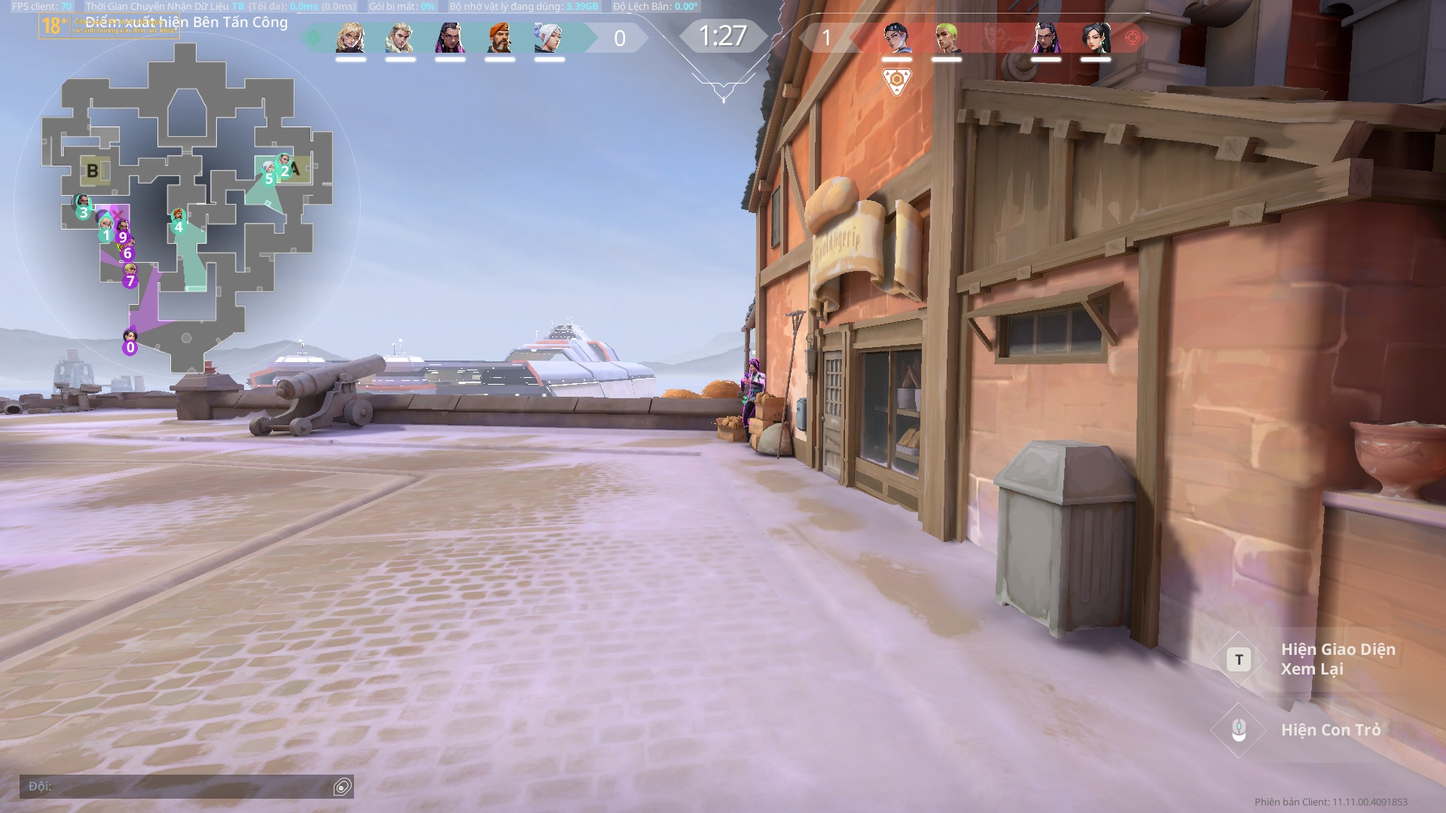body: (748, 370, 767, 391)
head: (749, 361, 758, 372)
